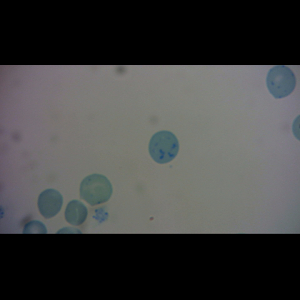aggregate reticulocyte: (147, 129, 181, 165)
erythrocyte: (36, 188, 64, 220), (63, 198, 89, 227)
punctate reticulocyte: (78, 173, 114, 207), (265, 65, 298, 100)
